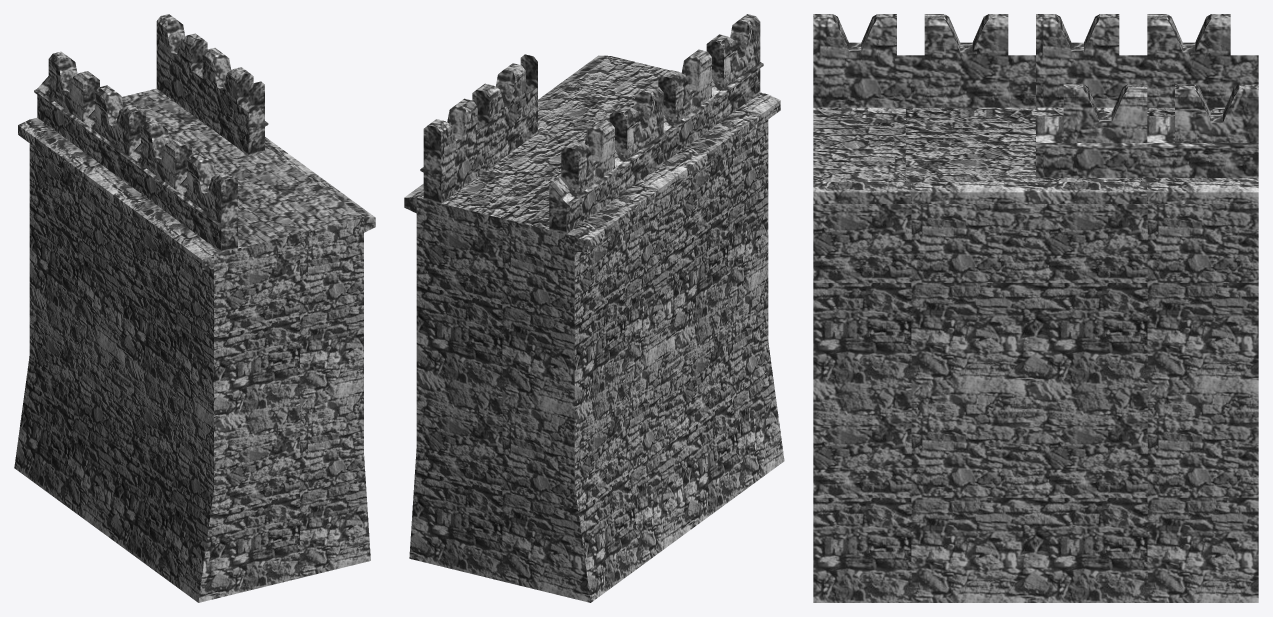
The model's file is castleSet_WallStraight_stairAccess.fbx.
3 renders of one model, left to right at view 1: azimuth 30°, elevation 25°; view 2: azimuth 150°, elevation 25°; view 3: azimuth 270°, elevation 25°, orthographic. The views are drawn at different scales.
Parts seen in each view (by area): view 1: TopWall.001; view 2: TopWall.001; view 3: TopWall.001.
Boxes of the visible parts, box(x1,y1,x2,y2) form: TopWall.001: box(14, 14, 375, 602); TopWall.001: box(404, 14, 784, 602); TopWall.001: box(813, 14, 1258, 602).
Bounding box in the file's own units: 11.11 × 24.95 × 20.
